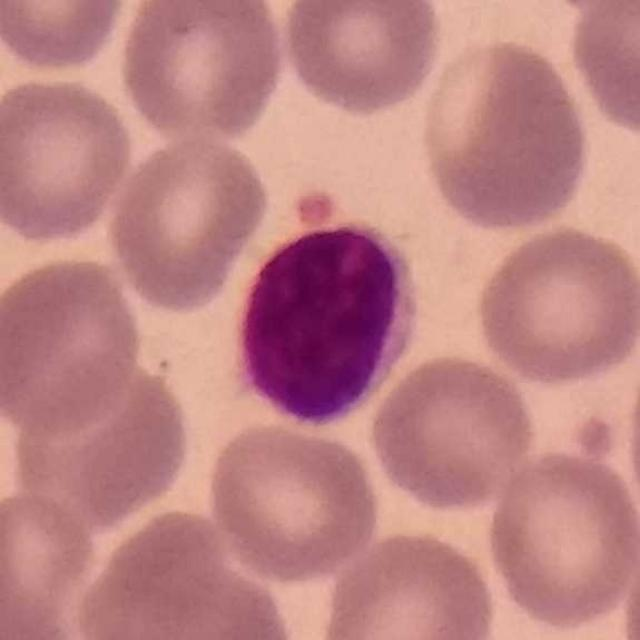Lymphocyte: (226, 216, 425, 430)
Platelets: (285, 180, 344, 234), (572, 409, 626, 464)
RBC: (414, 32, 596, 236), (12, 351, 198, 531), (102, 131, 273, 316), (202, 415, 385, 586), (68, 504, 295, 639), (482, 446, 640, 634), (365, 348, 540, 516), (471, 220, 640, 388), (0, 250, 147, 436), (113, 0, 290, 149), (0, 70, 138, 247), (315, 524, 502, 640), (277, 0, 448, 119), (0, 487, 100, 638), (563, 0, 640, 138), (0, 0, 131, 77), (0, 569, 80, 640), (620, 338, 640, 546), (616, 526, 640, 639), (535, 0, 640, 19)
